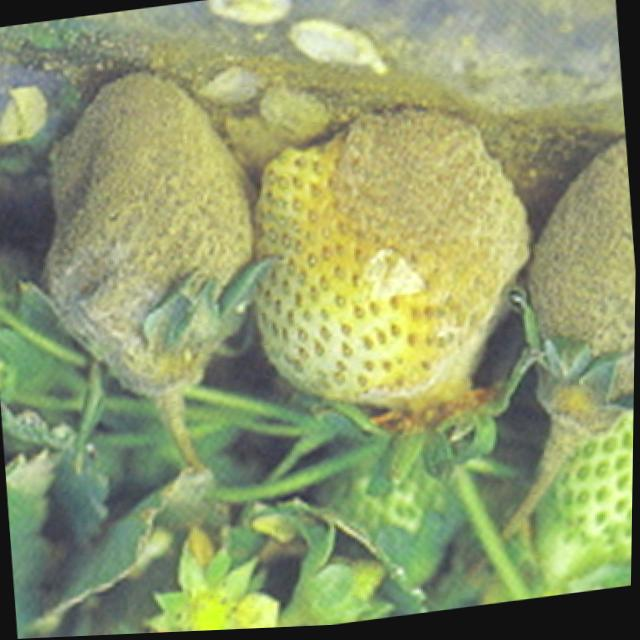Gray Mold: (250, 110, 532, 439), (38, 69, 262, 401), (528, 141, 636, 441)
